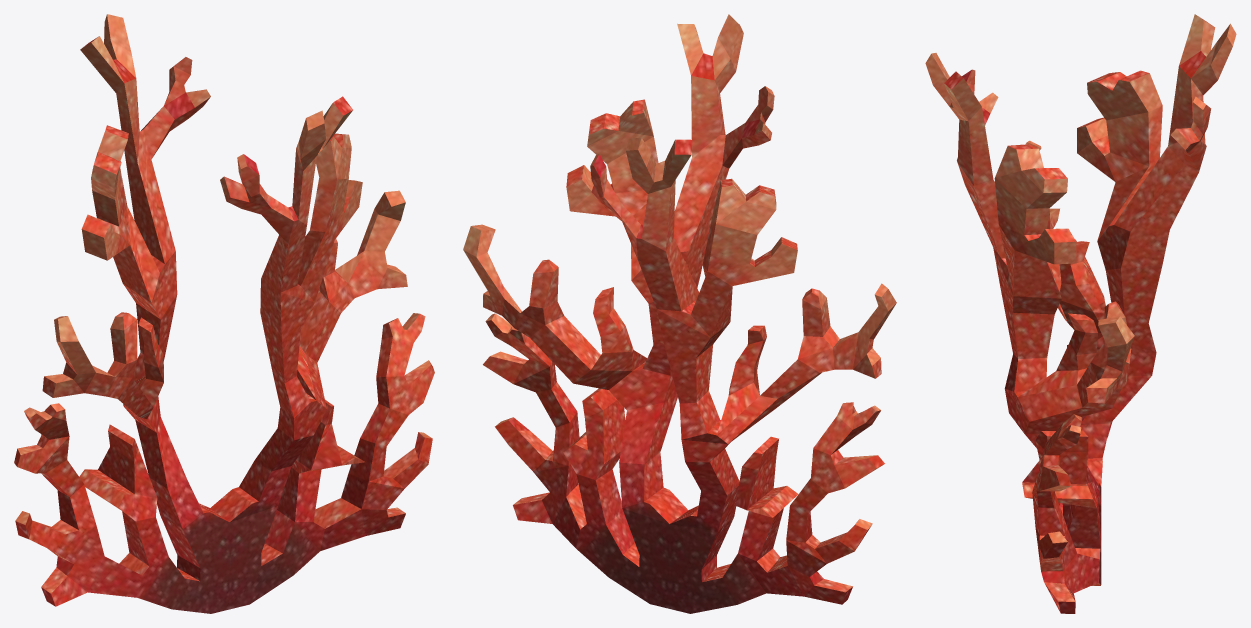
File: coral.glb
The picture shows the model from 3 angles, left to right: view 1: azimuth 30°, elevation 25°; view 2: azimuth 150°, elevation 25°; view 3: azimuth 270°, elevation 25°; orthographic projection. The views are drawn at different scales.
Parts seen in each view (by area): view 1: Cube.044_0, Cube.046_1; view 2: Cube.046_1, Cube.044_0; view 3: Cube.046_1, Cube.044_0.
Part boxes in pixels (<box>): Cube.044_0: <box>14,14,229,613</box>; Cube.046_1: <box>210,96,434,609</box>; Cube.046_1: <box>463,14,774,608</box>; Cube.044_0: <box>590,137,896,613</box>; Cube.046_1: <box>925,53,1134,613</box>; Cube.044_0: <box>1026,14,1236,514</box>.
Bounding box in the file's own units: 7.5 × 9.37 × 4.97.
Materials: 1 (1 with a texture image).
